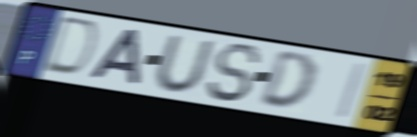A: (86, 27, 143, 88)
D: (39, 14, 103, 81), (256, 50, 317, 113)
I: (333, 61, 370, 122)
S: (205, 40, 264, 104)
U: (153, 34, 218, 96)
